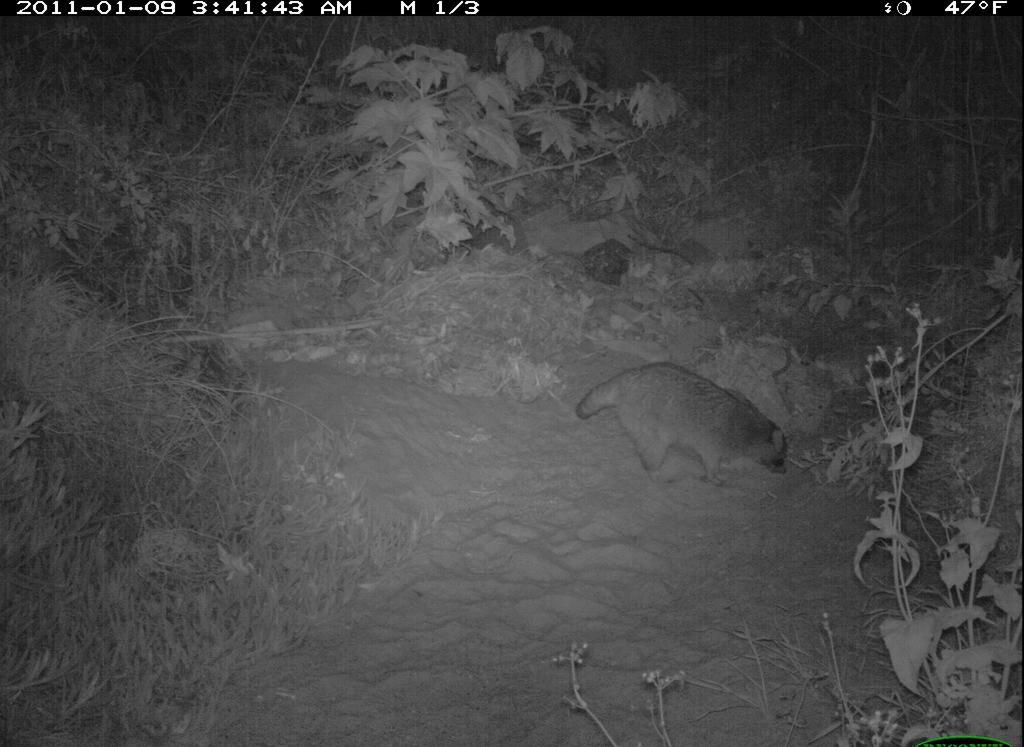raccoon: (574, 358, 793, 496)
